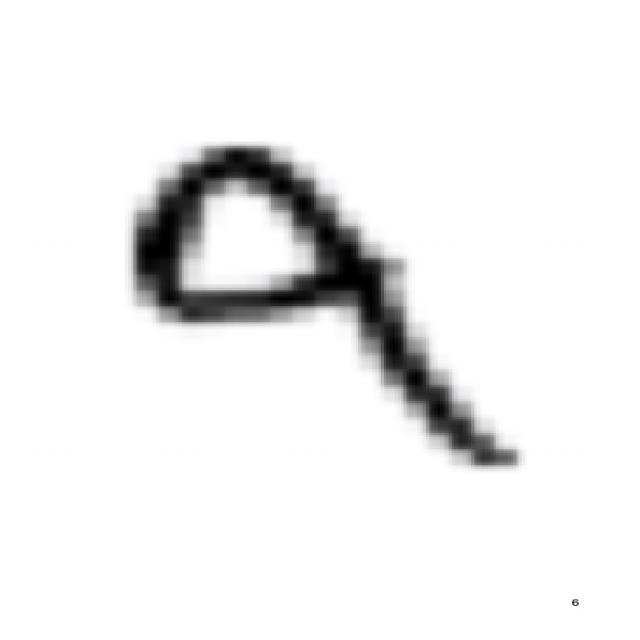9 -nine-: (110, 133, 545, 482)
